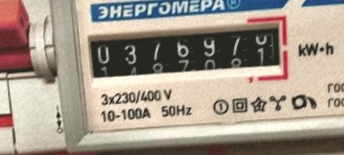0: (94, 42, 110, 65)
1: (253, 46, 267, 67)
3: (121, 43, 138, 66)
6: (173, 35, 190, 59)
7: (146, 38, 163, 62), (227, 33, 243, 57)
9: (199, 34, 216, 59)
screen: (77, 10, 293, 101)
